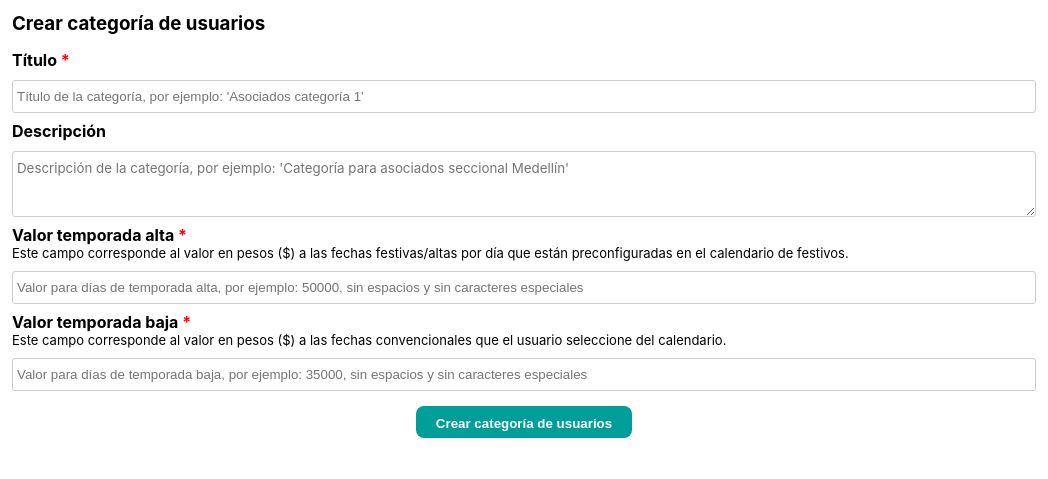
Test case: CrearCategoria test › Debería fallar con un campo obligatorio restante
Type "Categoría de prueba" into the field named "title" at (524, 96), box x1=12 y1=80 x2=1036 y2=113
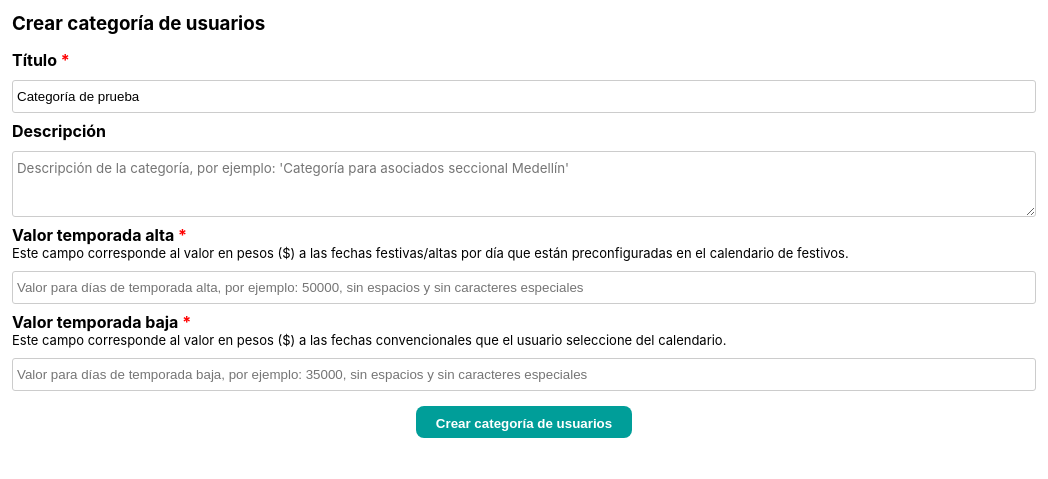
Replace the text in the number field named "priceHigh" with "50000" at (524, 288), box x1=12 y1=271 x2=1036 y2=304
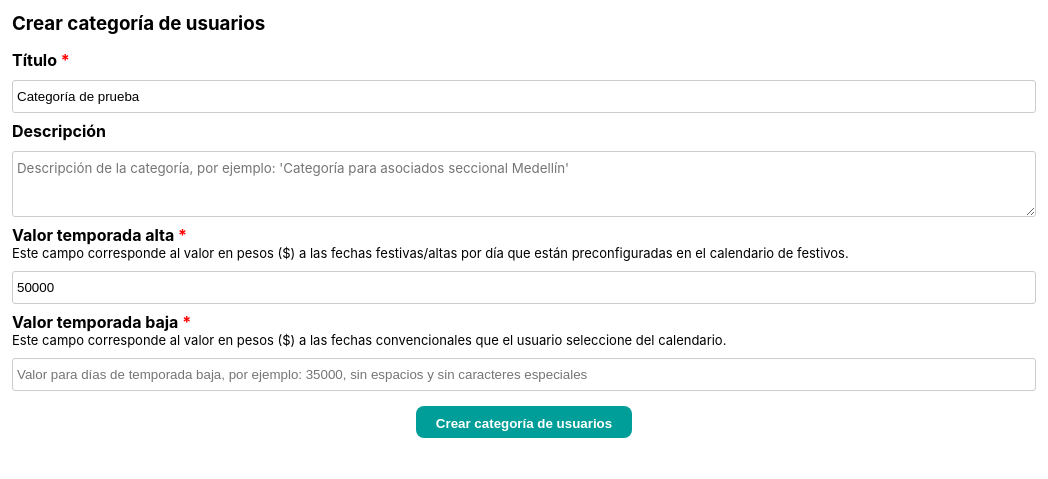
Click the submit button at (524, 422), box x1=416 y1=406 x2=632 y2=438
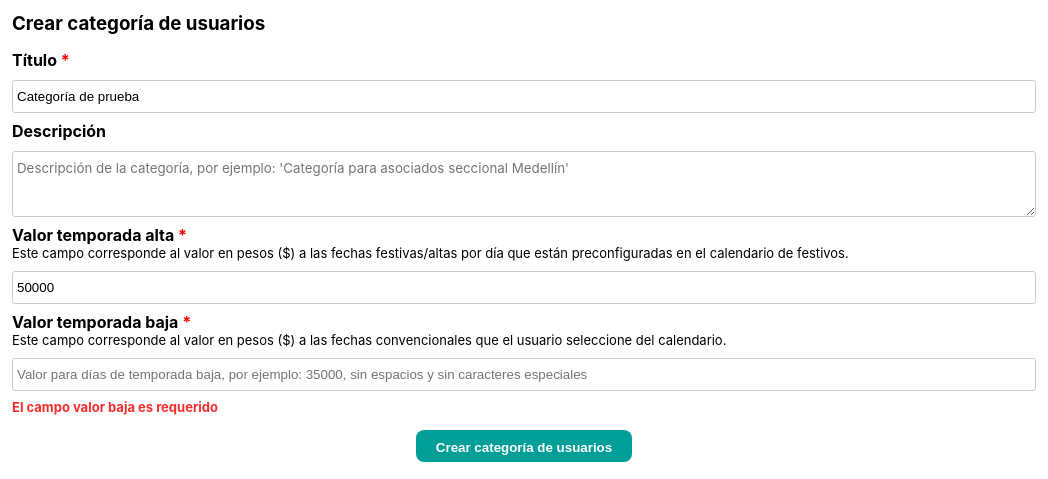
expect the text "El campo valor baja es requerido" is shown: met, box x1=12 y1=399 x2=218 y2=415
